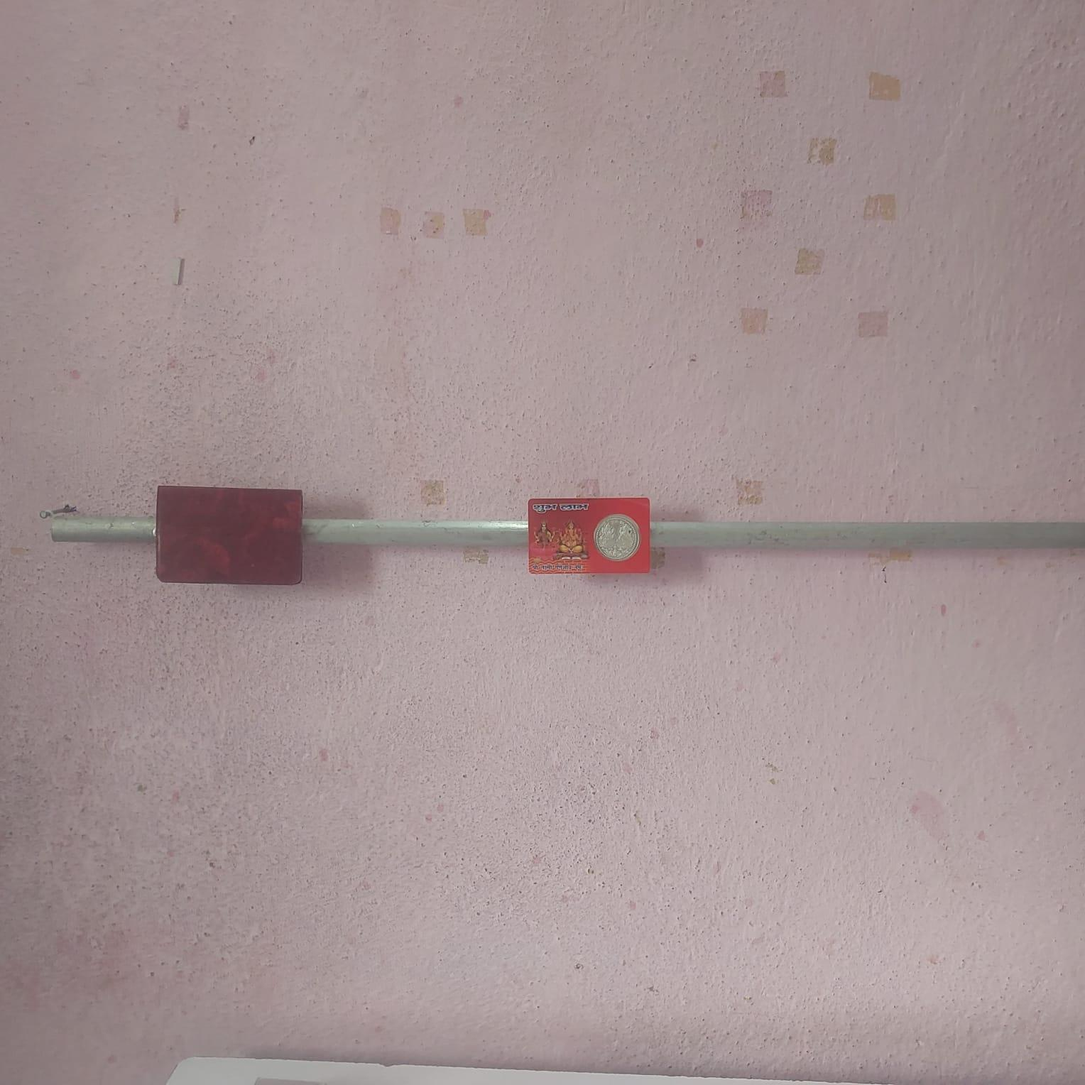blessing_card: (527, 494, 656, 576)
wallet: (158, 486, 308, 585)
